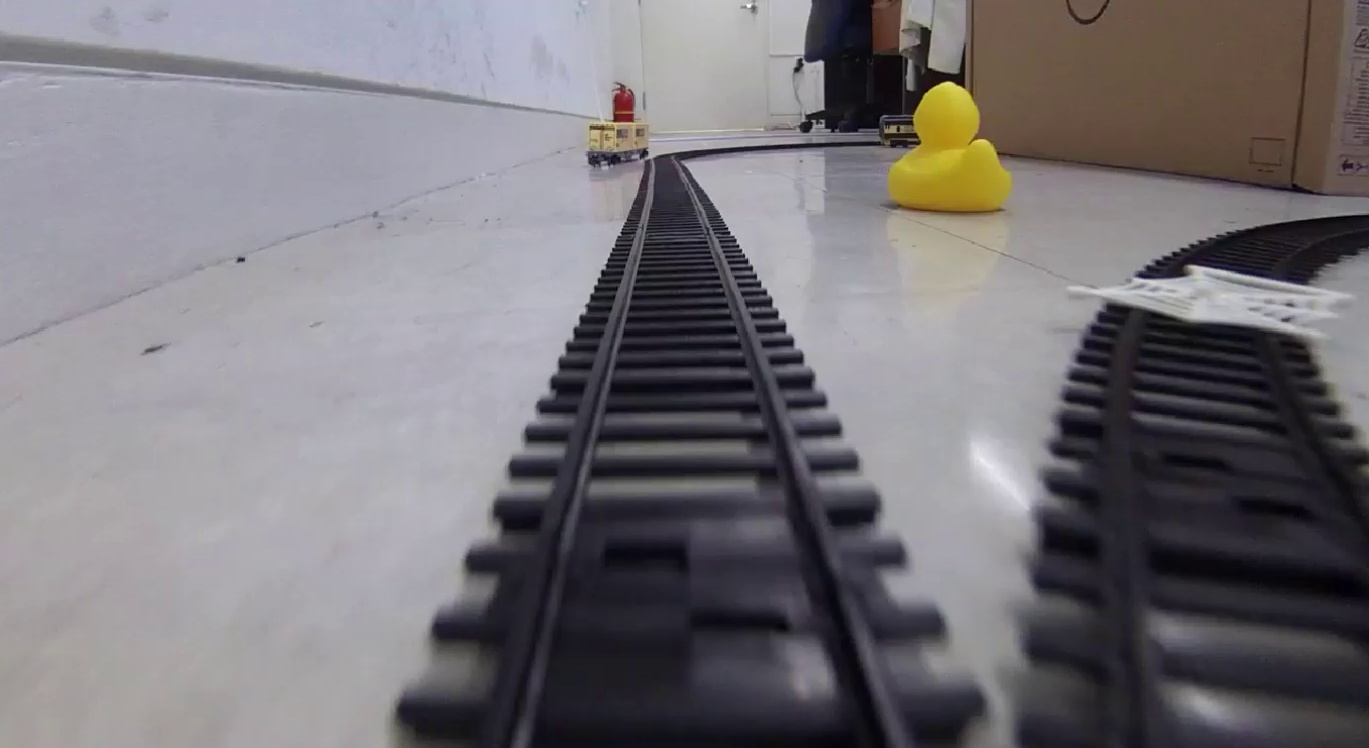web: (1068, 261, 1348, 334)
